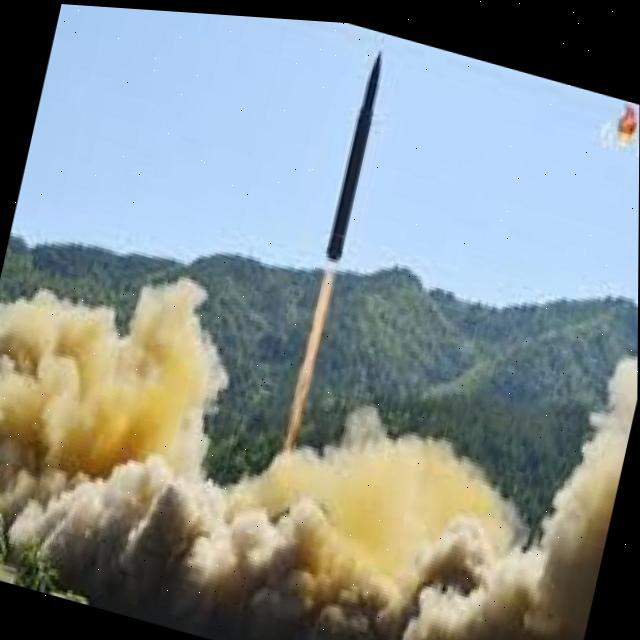missile: (312, 25, 414, 267)
